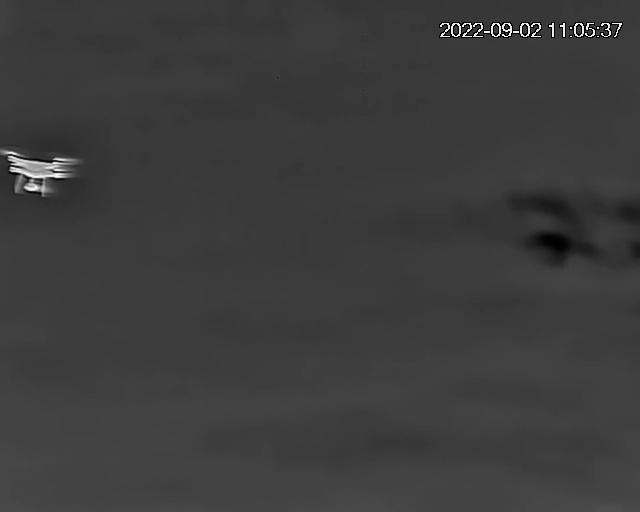DJI-Phantom: (0, 147, 81, 200)
